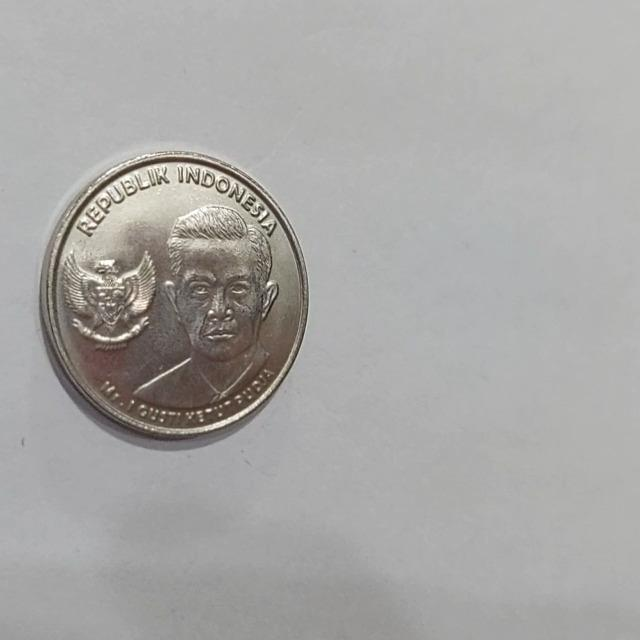Rp100: (39, 149, 310, 444), (128, 202, 281, 411), (57, 245, 158, 351)
